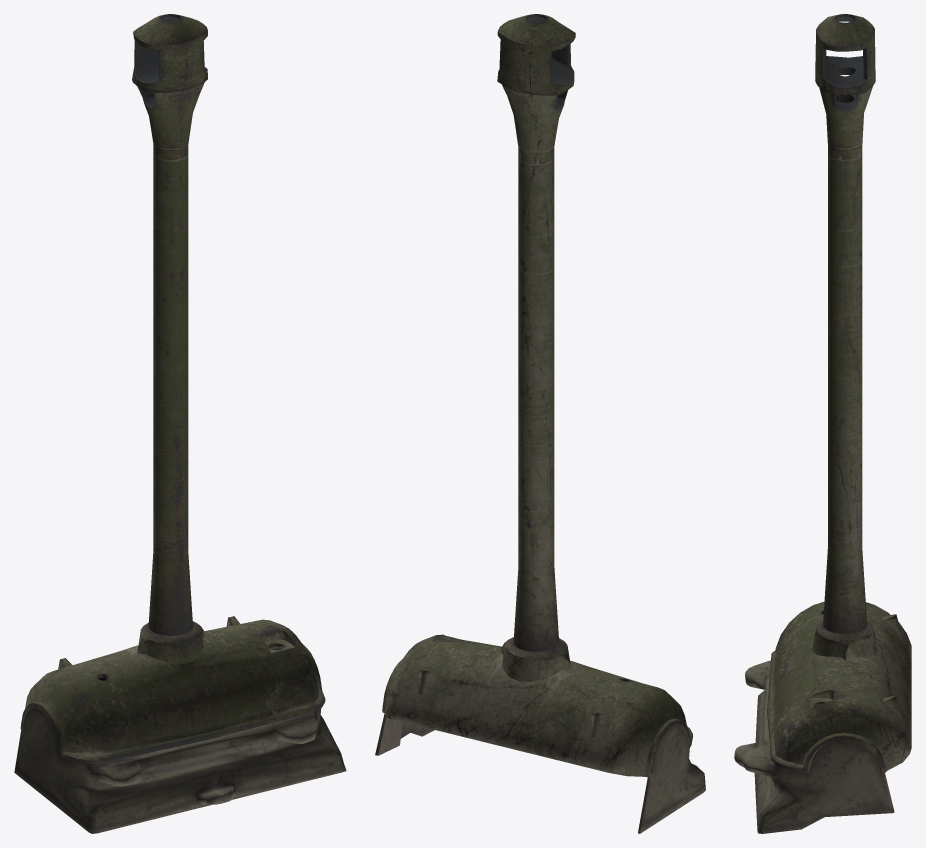
The model's file is Gun_01.glb.
3 renders of one model, left to right at view 1: azimuth 30°, elevation 25°; view 2: azimuth 150°, elevation 25°; view 3: azimuth 270°, elevation 25°, orthographic. The views are drawn at different scales.
Visible parts, largest first — view 1: set_0_group_0; view 2: set_0_group_0; view 3: set_0_group_0.
Part boxes in pixels (bbox=[...]): set_0_group_0: bbox=[14, 14, 346, 833]; set_0_group_0: bbox=[375, 14, 705, 833]; set_0_group_0: bbox=[734, 14, 911, 833].
Bounding box in the file's own units: 1.57 × 4.23 × 0.9048.
Materials: 1 (1 with a texture image).
